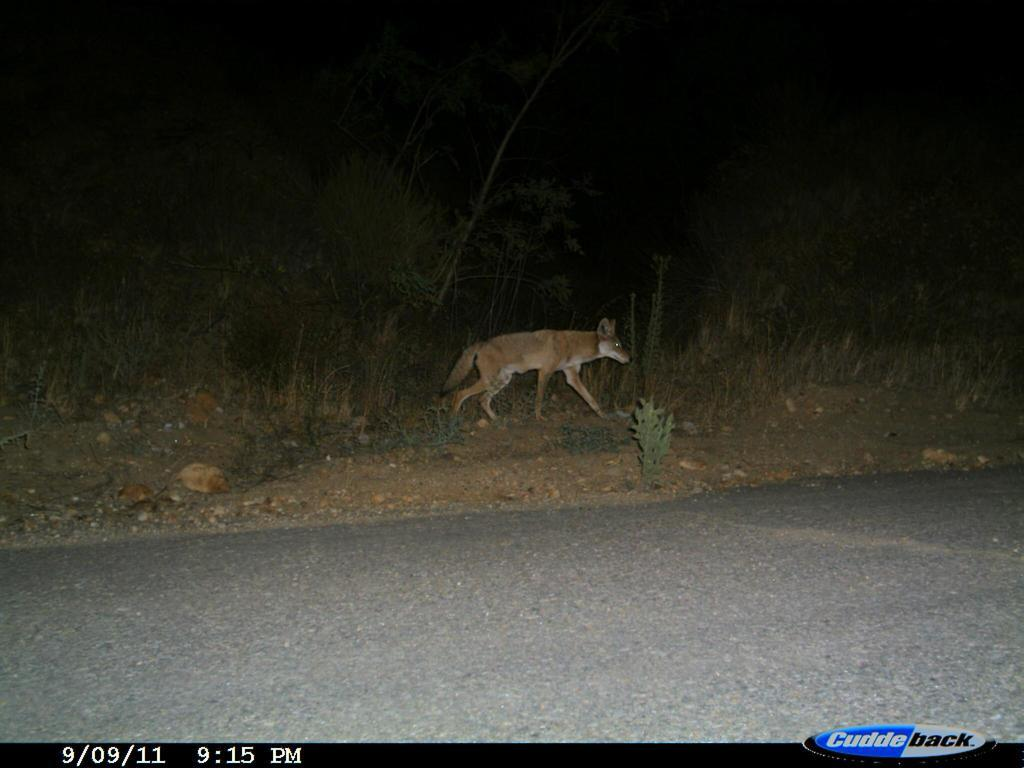coyote: (433, 315, 641, 429)
